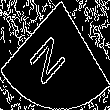N_NE: (32, 24, 78, 86)
